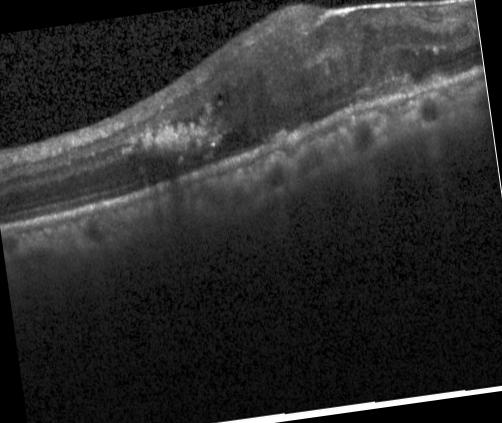intraretinal_cyst: (215, 128, 266, 155), (216, 94, 222, 100)
